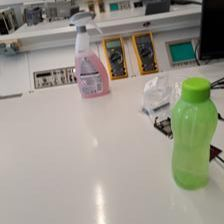bottle: (168, 76, 219, 190)
